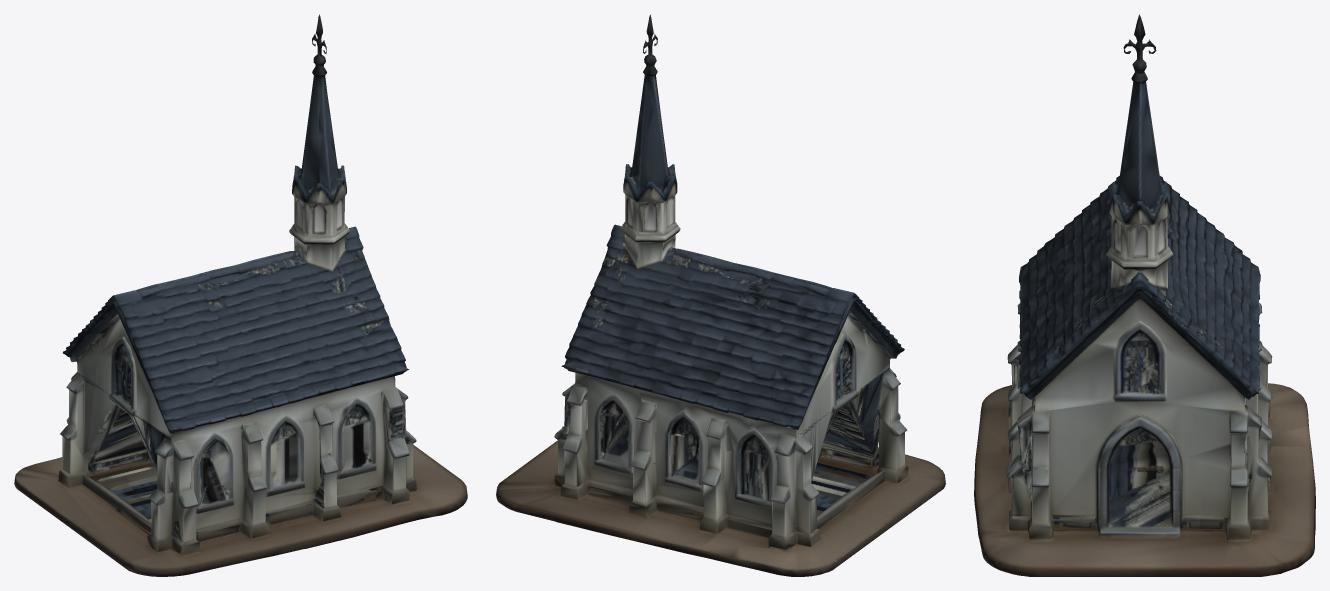
3 views of the same model, side by side, from view 1: azimuth 30°, elevation 25°; view 2: azimuth 150°, elevation 25°; view 3: azimuth 270°, elevation 25° (orthographic). The views are drawn at different scales.
Parts seen in each view (by area): view 1: repaired; view 2: repaired; view 3: repaired.
Boxes of the visible parts, bbox=[...] form: repaired: bbox=[14, 14, 467, 576]; repaired: bbox=[496, 14, 945, 576]; repaired: bbox=[974, 14, 1315, 576].
Size of the model in its own units: 0.7684 by 0.9975 by 0.6045.
1 material, 1 textured.
